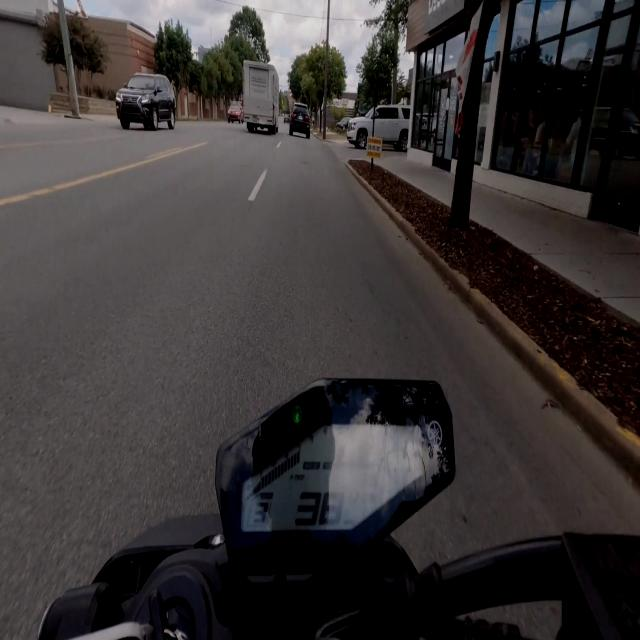car: (116, 73, 175, 130), (347, 105, 410, 151), (290, 104, 310, 138), (227, 101, 244, 124), (335, 117, 351, 131), (284, 114, 290, 123)
motorcycle: (38, 380, 639, 639)
